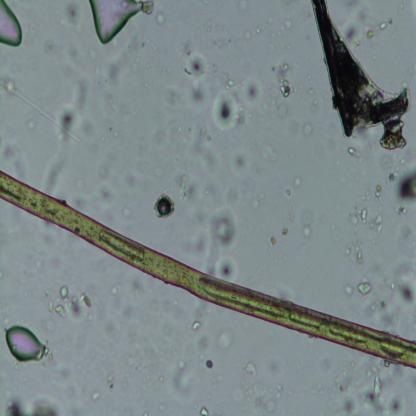Air bubble: (88, 0, 142, 46), (5, 325, 46, 363), (0, 0, 23, 47)
Background material: (180, 49, 256, 131), (151, 96, 216, 162), (348, 180, 387, 265), (336, 367, 406, 414), (101, 70, 140, 141), (204, 203, 238, 280), (169, 160, 212, 217), (86, 169, 134, 219), (240, 360, 286, 412), (57, 76, 90, 145), (46, 282, 96, 322), (385, 200, 416, 262), (1, 387, 64, 416), (168, 351, 202, 393), (344, 14, 387, 46), (107, 281, 144, 316), (392, 261, 416, 314), (0, 134, 29, 175), (225, 181, 262, 209), (225, 141, 252, 177), (274, 60, 295, 100), (174, 230, 208, 254), (374, 153, 397, 186), (64, 0, 86, 34), (344, 278, 377, 300), (400, 162, 416, 206), (153, 192, 175, 220), (64, 46, 84, 74), (298, 207, 314, 241), (216, 329, 233, 353), (152, 6, 168, 30), (40, 36, 60, 55), (270, 225, 288, 246), (104, 370, 121, 388), (100, 316, 115, 336), (242, 22, 258, 40), (278, 103, 292, 121), (61, 365, 75, 383), (304, 113, 312, 144), (87, 388, 105, 400), (190, 315, 202, 332), (235, 1, 248, 16), (283, 184, 294, 200), (348, 146, 360, 160), (27, 119, 37, 135), (205, 358, 215, 373), (292, 175, 302, 189), (284, 20, 294, 32), (199, 406, 209, 416)
Cellulose filter fibre: (310, 0, 412, 148)
Glass filter fibre: (0, 81, 83, 144)
Microfibre: (0, 172, 416, 368)
